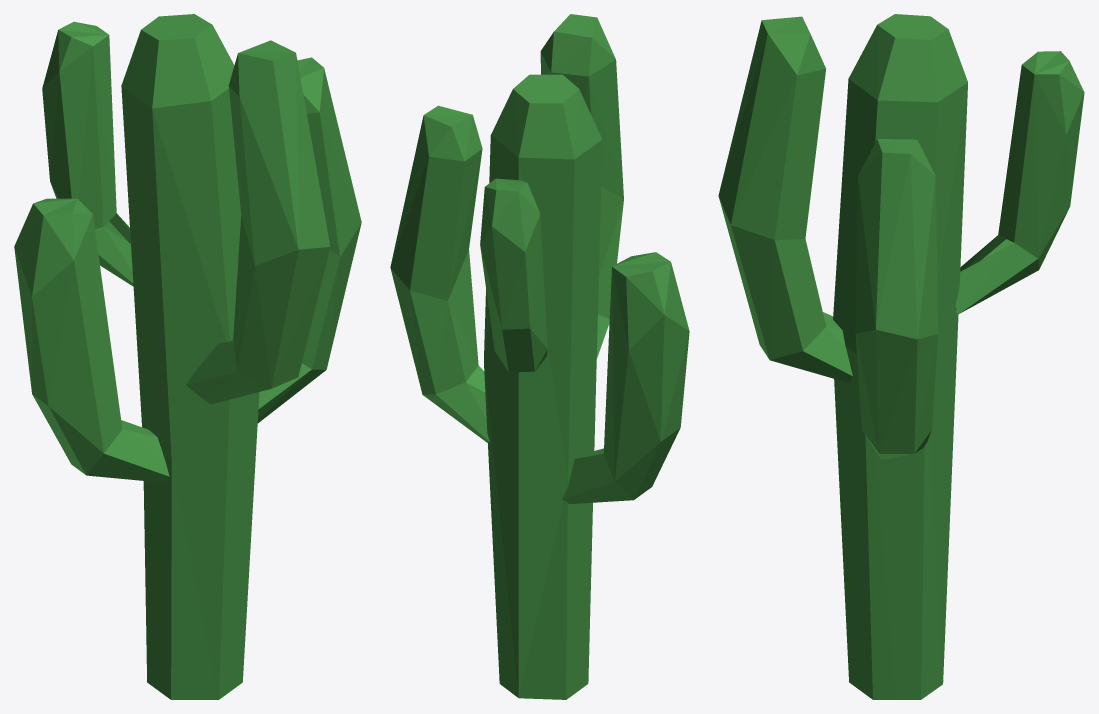
The model's file is Cactus_Saguaro_Type 1.fbx.
3 views of the same model, side by side, from view 1: azimuth 30°, elevation 25°; view 2: azimuth 150°, elevation 25°; view 3: azimuth 270°, elevation 25° (orthographic). The views are drawn at different scales.
Parts seen in each view (by area): view 1: Cactus_Saguaro_Type 1; view 2: Cactus_Saguaro_Type 1; view 3: Cactus_Saguaro_Type 1.
Part boxes in pixels (box(x1,y1,x2,y2)): Cactus_Saguaro_Type 1: box(14, 14, 361, 699); Cactus_Saguaro_Type 1: box(390, 14, 689, 699); Cactus_Saguaro_Type 1: box(718, 14, 1084, 699).
Bounding box in the file's own units: 198 × 400 × 199.
